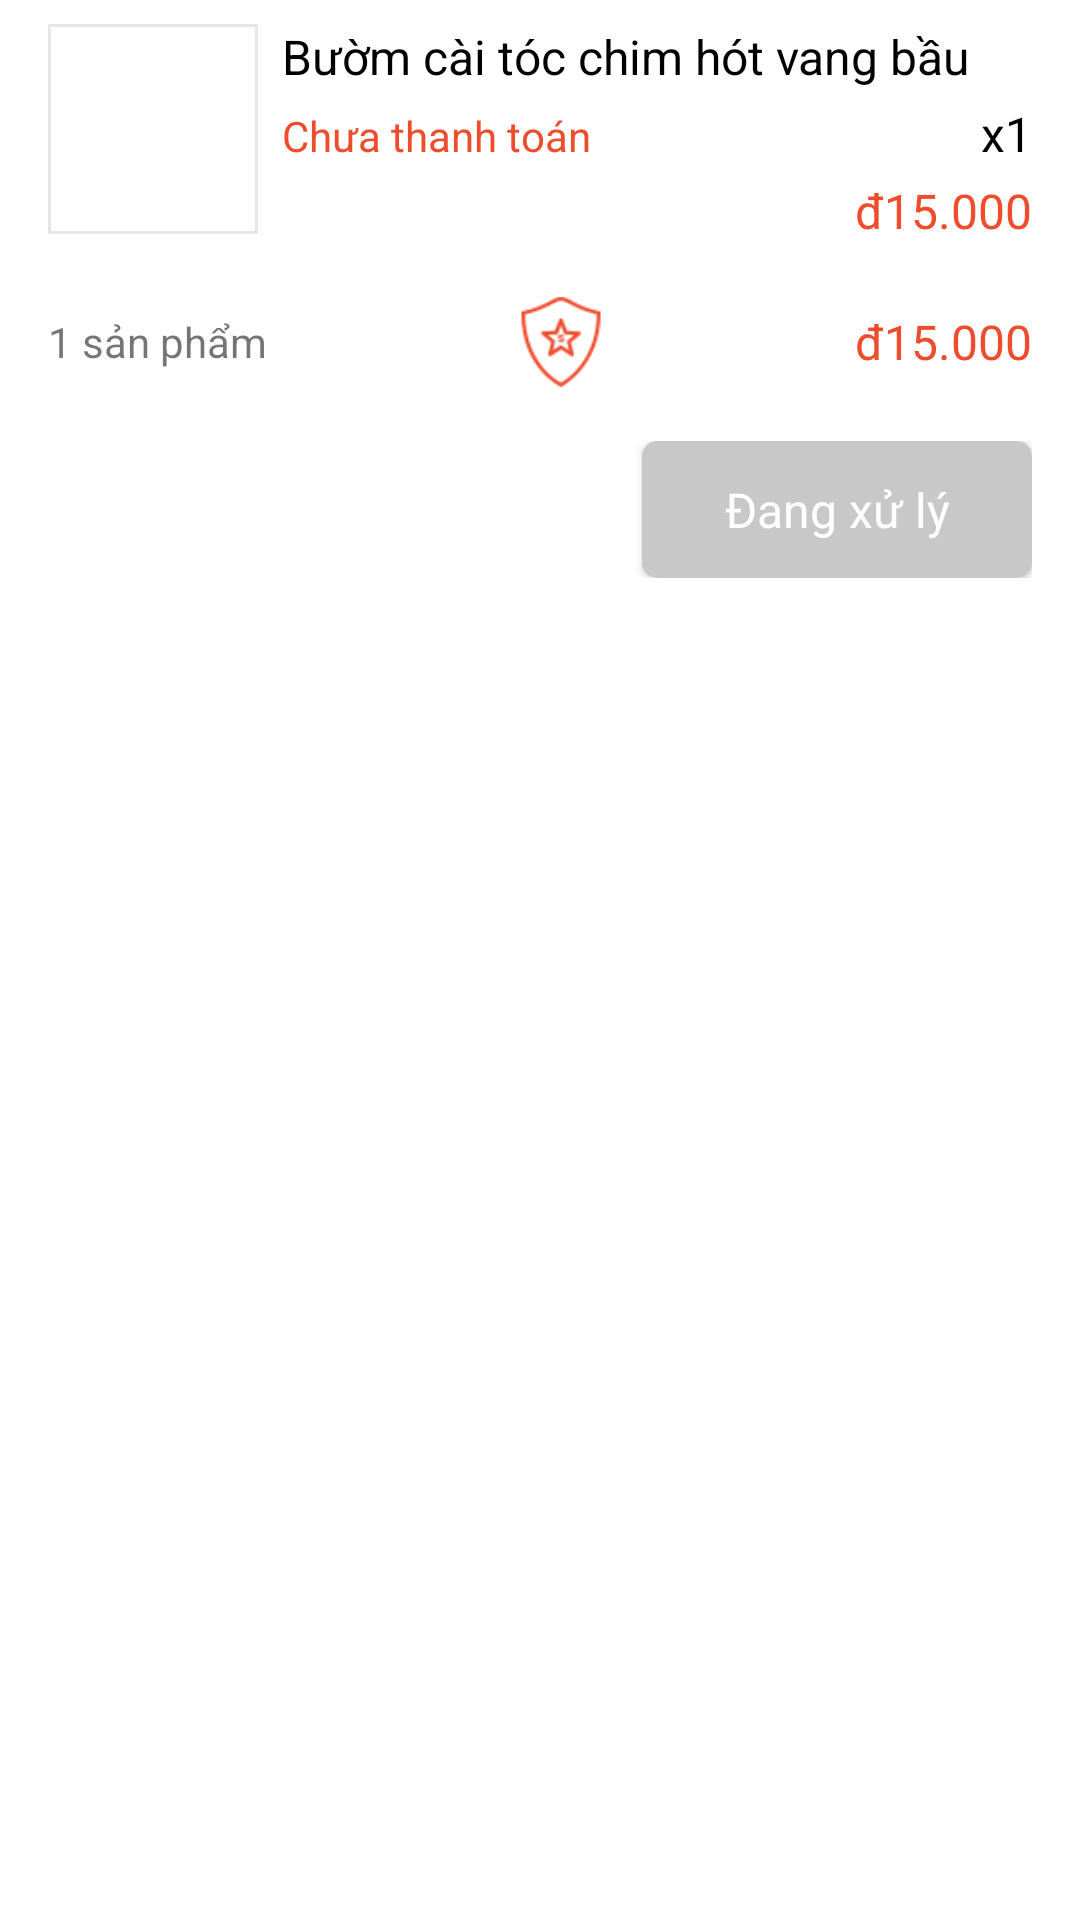

Screen size 1080 × 1920. Icon name, then its box in pixels as [x1,y1,x2,y2]:
favorites shield: [521,297,601,387]
